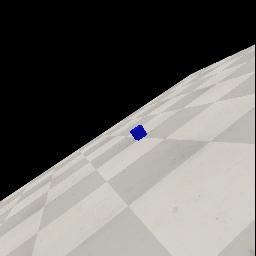box: (130, 125, 147, 141)
